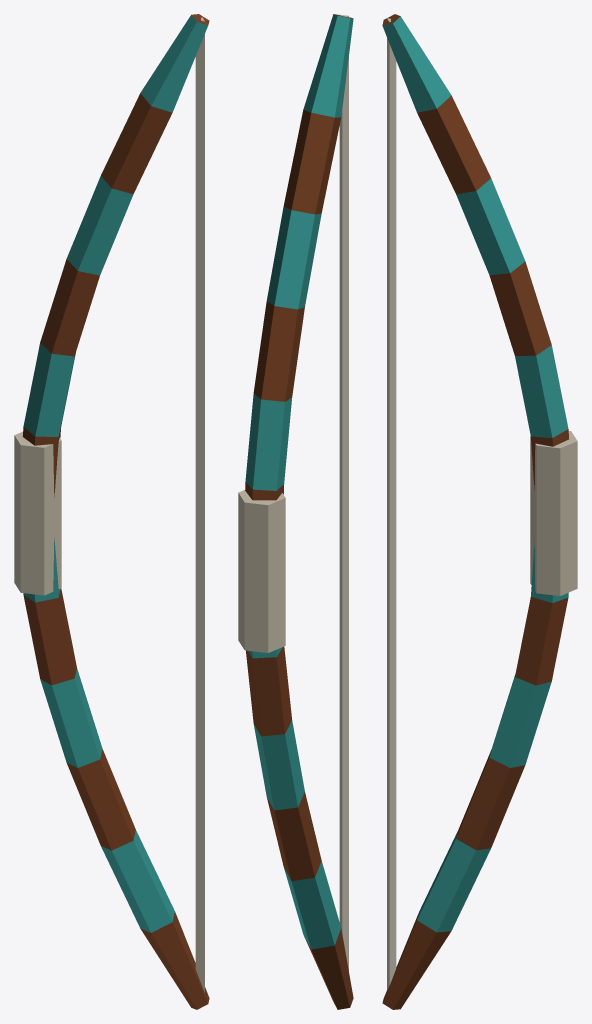
Rendered from weapon_bow.glb.
3 renders of one model, left to right at view 1: azimuth 90°, elevation 25°; view 2: azimuth 150°, elevation 25°; view 3: azimuth 270°, elevation 25°, orthographic.
Parts seen in each view (by area): view 1: bird_weapon_bow; view 2: bird_weapon_bow; view 3: bird_weapon_bow.
Part boxes in pixels (bbox=[...]): bird_weapon_bow: bbox=[14, 14, 209, 1009]; bird_weapon_bow: bbox=[238, 14, 353, 1009]; bird_weapon_bow: bbox=[382, 14, 577, 1009].
Bounding box in the file's own units: 0.0417 × 0.9681 × 0.1724.
